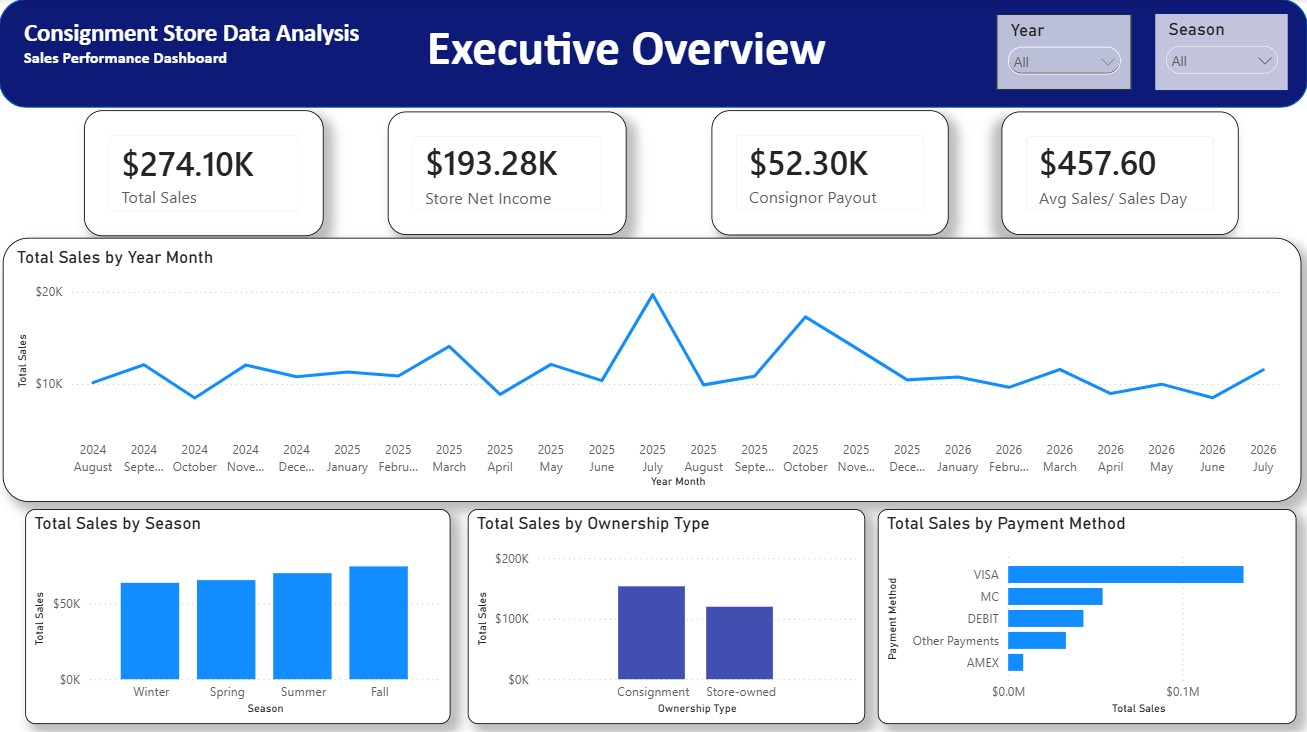

The page's visual inventory and layout, read from the dashboard file:
{"tool":"powerbi","page":{"name":"Executive Overview","canvas":[1280,720],"ordinal":1},"visuals":[{"type":"shape","box":[0,0,1280.3,106.4],"z":0},{"type":"textbox","box":[19.6,13.5,360.7,73.4],"z":1000},{"type":"slicer","fields":{"Values":["DateTable.Year"]},"box":[975.8,14.7,132.1,74.6],"z":2000},{"type":"slicer","fields":{"Values":["DateTable.Season"]},"box":[1131.1,14.7,129.6,74.6],"z":3000},{"type":"textbox","box":[380.3,13.5,467.1,73.4],"z":4000},{"type":"cardVisual","fields":{"Data":["Metrics.Total Sales"]},"box":[83.2,108.8,234.8,123.5],"z":5000},{"type":"cardVisual","fields":{"Data":["Metrics.Total Store Net Income"]},"box":[380.3,110.1,233.6,121.1],"z":6000},{"type":"cardVisual","fields":{"Data":["Metrics.Total Consignor Share"]},"box":[697,108.8,232.3,122.3],"z":7000},{"type":"cardVisual","fields":{"Data":["Metrics.Average Sales per Sales Day"]},"box":[980.7,110.1,232.3,121.1],"z":8000},{"type":"lineChart","fields":{"Category":["DateTable.Year Month"],"Y":["Metrics.Total Sales"]},"box":[3.7,233.6,1270.5,258],"z":9000},{"type":"clusteredColumnChart","fields":{"Category":["DateTable.Season"],"Y":["Metrics.Total Sales"]},"box":[25.7,498.9,415.8,210.3],"z":10000},{"type":"clusteredColumnChart","fields":{"Y":["Metrics.Total Sales"],"Category":["RawFiles.Ownership Type"]},"box":[458.6,498.9,388.9,210.3],"z":11000},{"type":"clusteredBarChart","fields":{"Y":["Metrics.Total Sales"],"Category":["RawFiles.Payment Method P"]},"box":[859.7,498.9,409.6,210.3],"z":12000}]}

Visuals, with their boxes in screenshot pixels (x1, y1, x2, y2), scaled from the page's 1280x720 canvas onto the 1307x732 screenshot:
shape: bbox=(0, 0, 1306, 108)
textbox: bbox=(20, 14, 388, 88)
slicer - DateTable.Year: bbox=(996, 15, 1131, 91)
slicer - DateTable.Season: bbox=(1155, 15, 1287, 91)
textbox: bbox=(388, 14, 865, 88)
cardVisual - Metrics.Total Sales: bbox=(85, 111, 325, 236)
cardVisual - Metrics.Total Store Net Income: bbox=(388, 112, 627, 235)
cardVisual - Metrics.Total Consignor Share: bbox=(712, 111, 949, 235)
cardVisual - Metrics.Average Sales per Sales Day: bbox=(1001, 112, 1239, 235)
lineChart - DateTable.Year Month x Metrics.Total Sales: bbox=(4, 237, 1301, 500)
clusteredColumnChart - DateTable.Season x Metrics.Total Sales: bbox=(26, 507, 451, 721)
clusteredColumnChart - Metrics.Total Sales x RawFiles.Ownership Type: bbox=(468, 507, 865, 721)
clusteredBarChart - Metrics.Total Sales x RawFiles.Payment Method P: bbox=(878, 507, 1296, 721)
